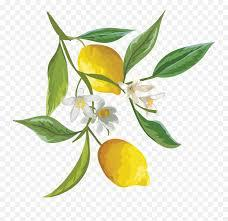lemon: (98, 138, 150, 187), (78, 44, 123, 95)
